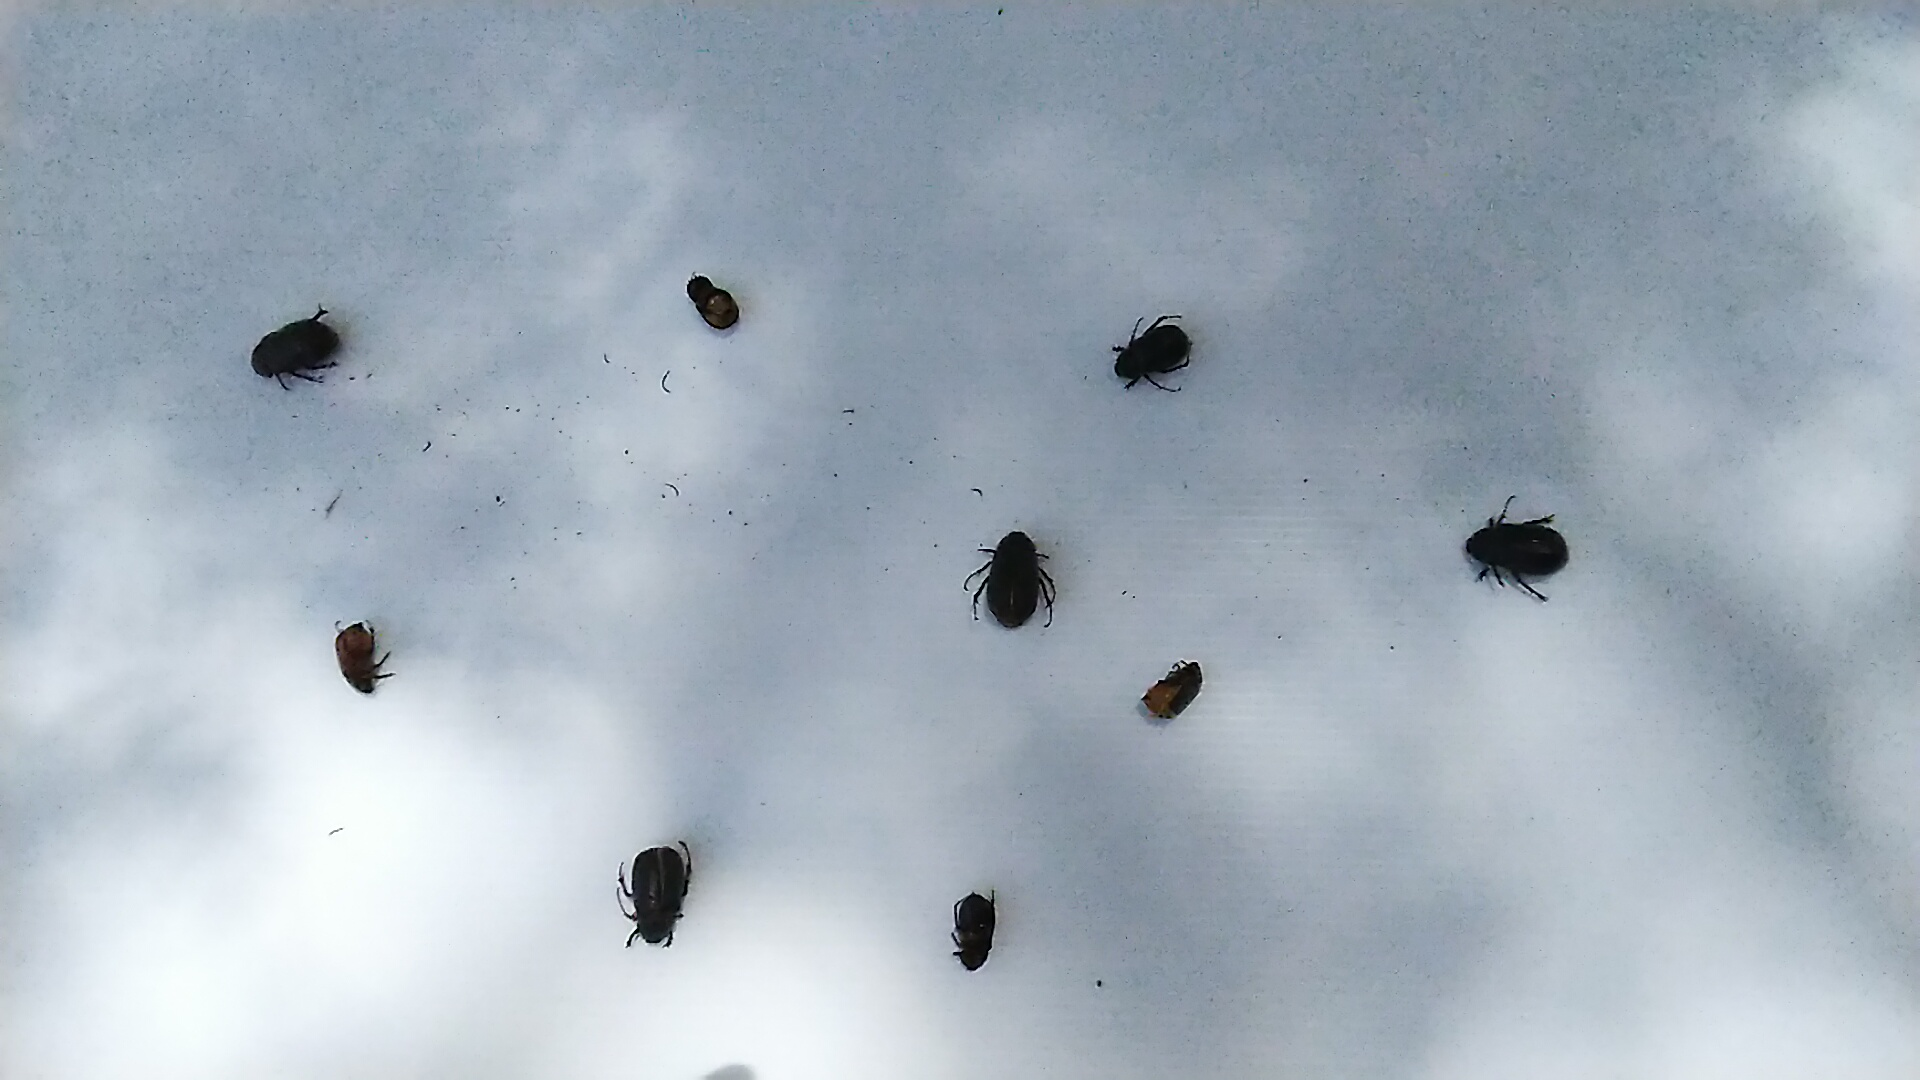INS-A: (1464, 487, 1597, 603), (963, 509, 1065, 640), (233, 297, 360, 390), (1098, 295, 1204, 407), (309, 607, 406, 705), (620, 837, 699, 953), (1131, 640, 1216, 728), (947, 876, 1015, 982), (679, 268, 756, 342)
